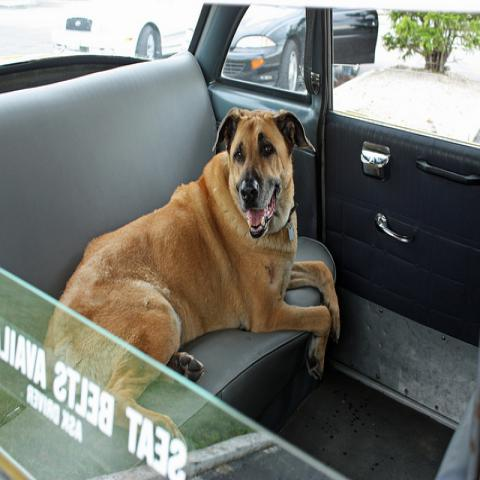car: (221, 4, 379, 95), (51, 1, 204, 60)
